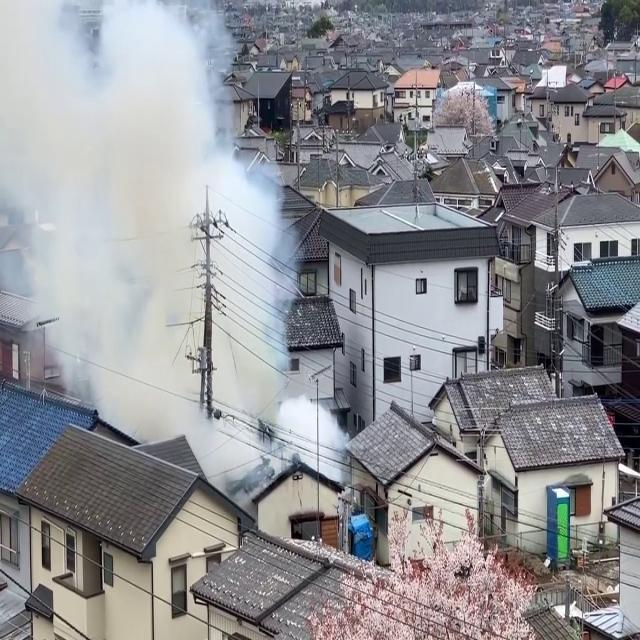Smoke: (0, 0, 350, 469)
